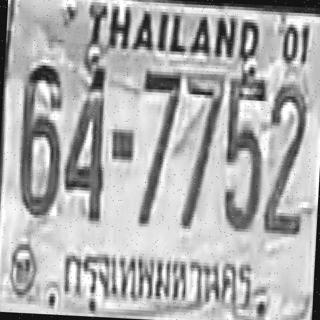N02: (262, 79, 308, 233)
N04: (62, 55, 108, 218)
N05: (221, 69, 267, 230)
N06: (16, 62, 64, 216)
N07: (136, 68, 181, 225), (179, 70, 224, 227)
